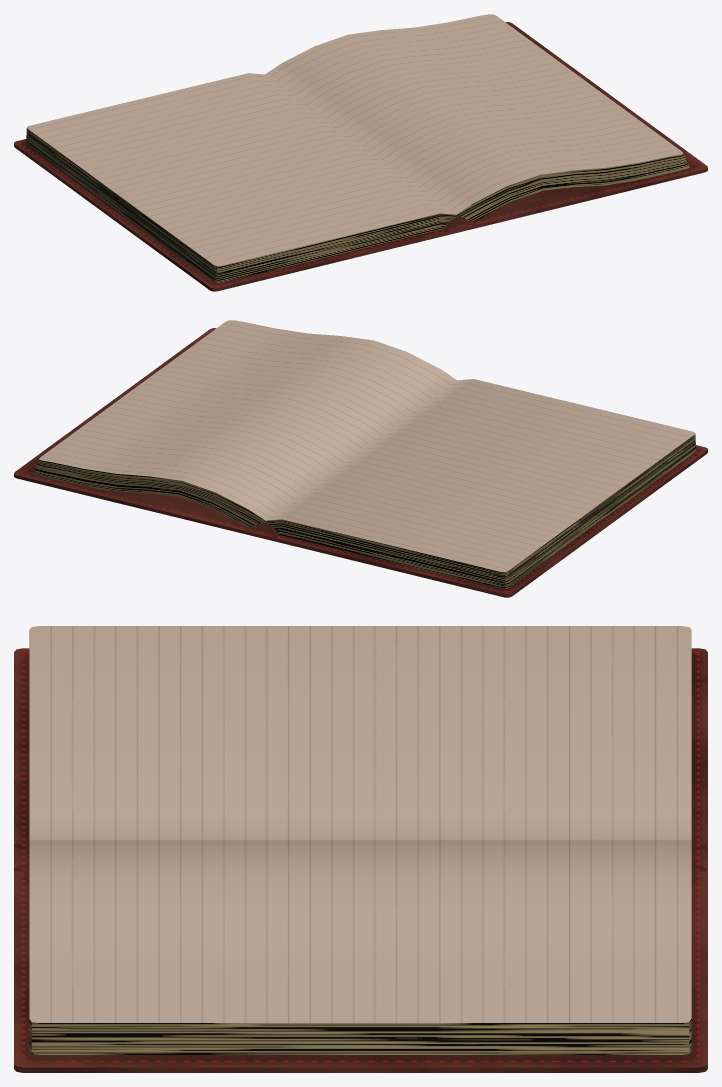
The model's file is NotebookOpen.FBX.
The picture shows the model from 3 angles, top to bottom: view 1: azimuth 30°, elevation 25°; view 2: azimuth 150°, elevation 25°; view 3: azimuth 270°, elevation 25°; orthographic projection. The views are drawn at different scales.
Parts seen in each view (by area): view 1: NotebookOpen; view 2: NotebookOpen; view 3: NotebookOpen.
Part boxes in pixels (x1,y1,x2,y2): NotebookOpen: (14,14,707,291); NotebookOpen: (14,320,707,597); NotebookOpen: (14,626,707,1072).
Bounding box in the file's own units: 11.81 × 0.759 × 8.26.
